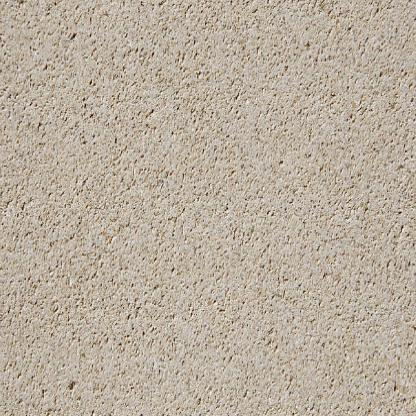Sedimentary_Sandstone: (0, 9, 414, 415)
